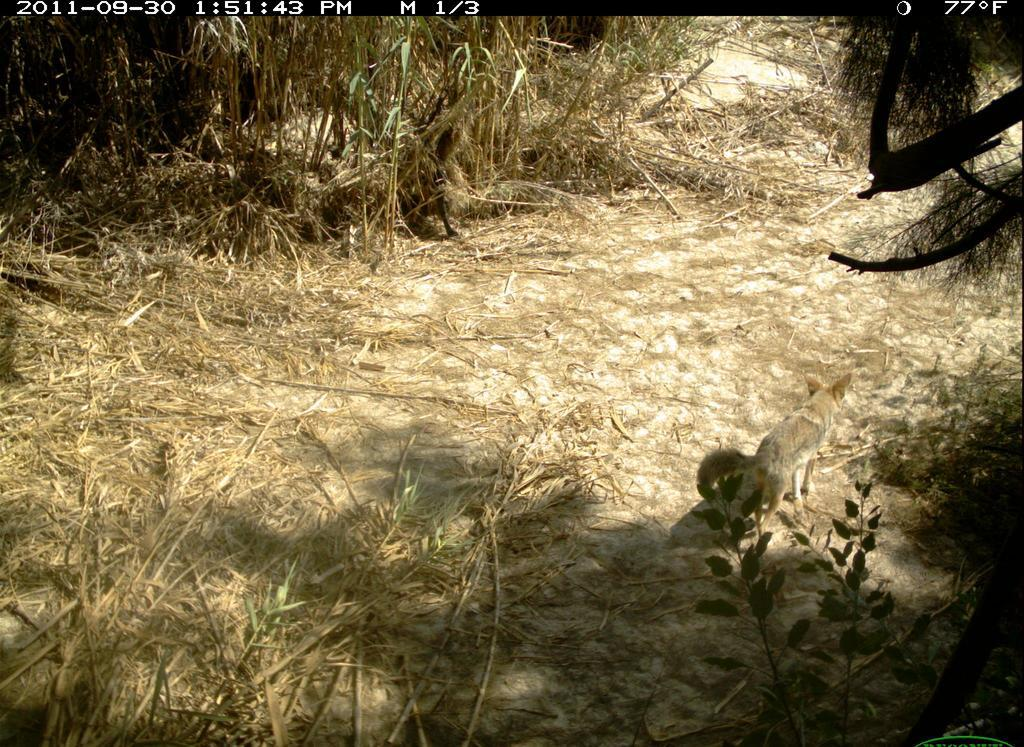coyote: (688, 354, 888, 560)
